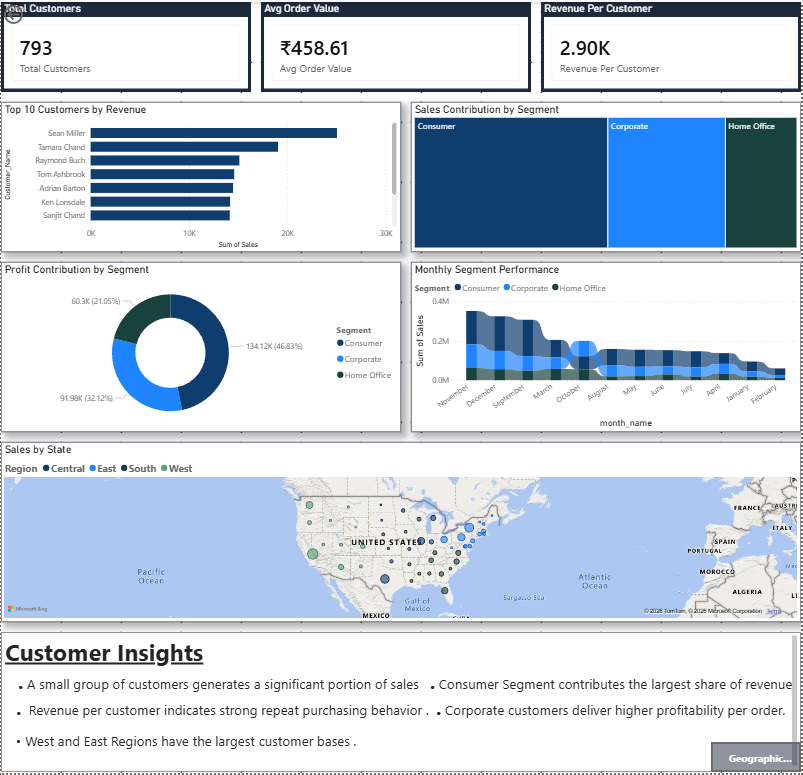

Layout of this report page (visuals, bound fields, positions):
{"tool":"powerbi","page":{"name":"Customer Intelligence and Segmentation","canvas":[1280,1233],"ordinal":2},"visuals":[{"type":"cardVisual","title":"Total Customers","fields":{"Data":["engineered_superstore.Total Customers"]},"box":[0,0,400,144],"z":0},{"type":"cardVisual","title":"Avg Order Value","fields":{"Data":["engineered_superstore.Avg Order Value"]},"box":[416,0,432,144],"z":1000},{"type":"cardVisual","title":"Revenue Per Customer","fields":{"Data":["engineered_superstore.Revenue Per Customer"]},"box":[864,0,416,144],"z":2000},{"type":"clusteredBarChart","title":"Top 10 Customers by Revenue","fields":{"Category":["engineered_superstore.Customer_Name"],"Y":["Sum(engineered_superstore.Sales)"]},"box":[0,160,640,240],"z":3000},{"type":"map","title":"Sales by State","fields":{"Category":["engineered_superstore.State"],"Series":["engineered_superstore.Region"],"Size":["Count(engineered_superstore.Customer_ID)"]},"box":[0,704,1280,288],"z":4000},{"type":"actionButton","box":[0,0,100,40],"z":5000},{"type":"textbox","box":[0,1008,1280,224],"z":6000},{"type":"treemap","title":" Sales Contribution by Segment","fields":{"Group":["engineered_superstore.Segment"],"Values":["Sum(engineered_superstore.Sales)"]},"box":[656,160,624,240],"z":7000},{"type":"ribbonChart","title":"Monthly Segment Performance","fields":{"Category":["engineered_superstore.month_name"],"Series":["engineered_superstore.Segment"],"Y":["Sum(engineered_superstore.Sales)"]},"box":[656,416,624,272],"z":8000},{"type":"donutChart","title":" Profit Contribution by Segment","fields":{"Category":["engineered_superstore.Segment"],"Y":["Sum(engineered_superstore.Profit)"]},"box":[0,416,640,272],"z":9000},{"type":"actionButton","box":[1136,1184,144,48],"z":10000}]}

Visuals, with their boxes in screenshot pixels (x1, y1, x2, y2), scaled from the page's 1280x1233 canvas onto the 803x775 screenshot:
"Total Customers" cardVisual: locate(0, 0, 251, 91)
"Avg Order Value" cardVisual: locate(261, 0, 532, 91)
"Revenue Per Customer" cardVisual: locate(542, 0, 802, 91)
"Top 10 Customers by Revenue" clusteredBarChart: locate(0, 101, 402, 251)
"Sales by State" map: locate(0, 442, 802, 624)
actionButton: locate(0, 0, 63, 25)
textbox: locate(0, 634, 802, 774)
" Sales Contribution by Segment" treemap: locate(412, 101, 802, 251)
"Monthly Segment Performance" ribbonChart: locate(412, 261, 802, 432)
" Profit Contribution by Segment" donutChart: locate(0, 261, 402, 432)
actionButton: locate(713, 744, 802, 774)
